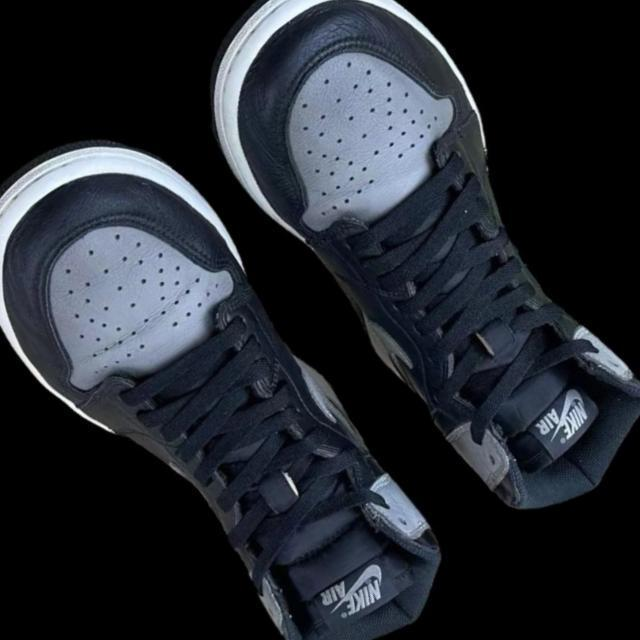nike original jordan 1: (0, 85, 491, 640), (157, 0, 640, 556)
